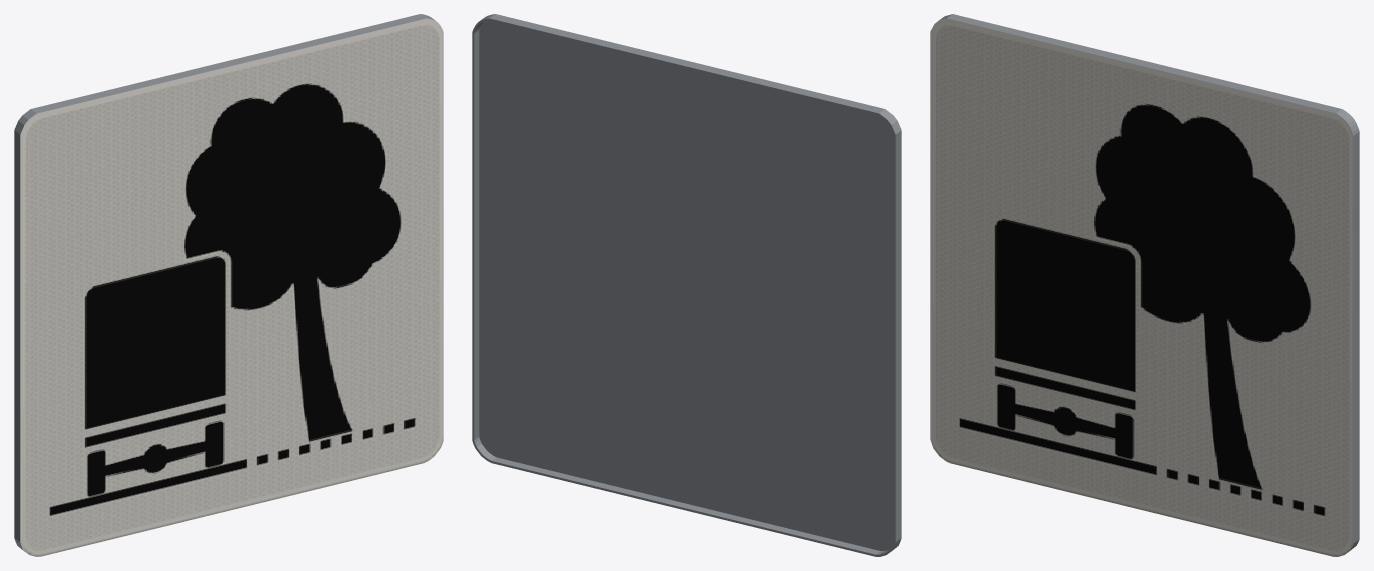
3 views of the same model, side by side, from view 1: azimuth 30°, elevation 25°; view 2: azimuth 150°, elevation 25°; view 3: azimuth 330°, elevation 25° (orthographic).
Visible parts, largest first — view 1: cat_e9d50cde183ead15; view 2: cat_e9d50cde183ead15; view 3: cat_e9d50cde183ead15.
Part boxes in pixels (bbox=[...]): cat_e9d50cde183ead15: bbox=[14, 14, 443, 556]; cat_e9d50cde183ead15: bbox=[472, 14, 901, 556]; cat_e9d50cde183ead15: bbox=[930, 14, 1359, 556].
Size of the model in its own units: 0.6 by 0.015 by 0.6015.
Materials: 2 (1 with a texture image).
